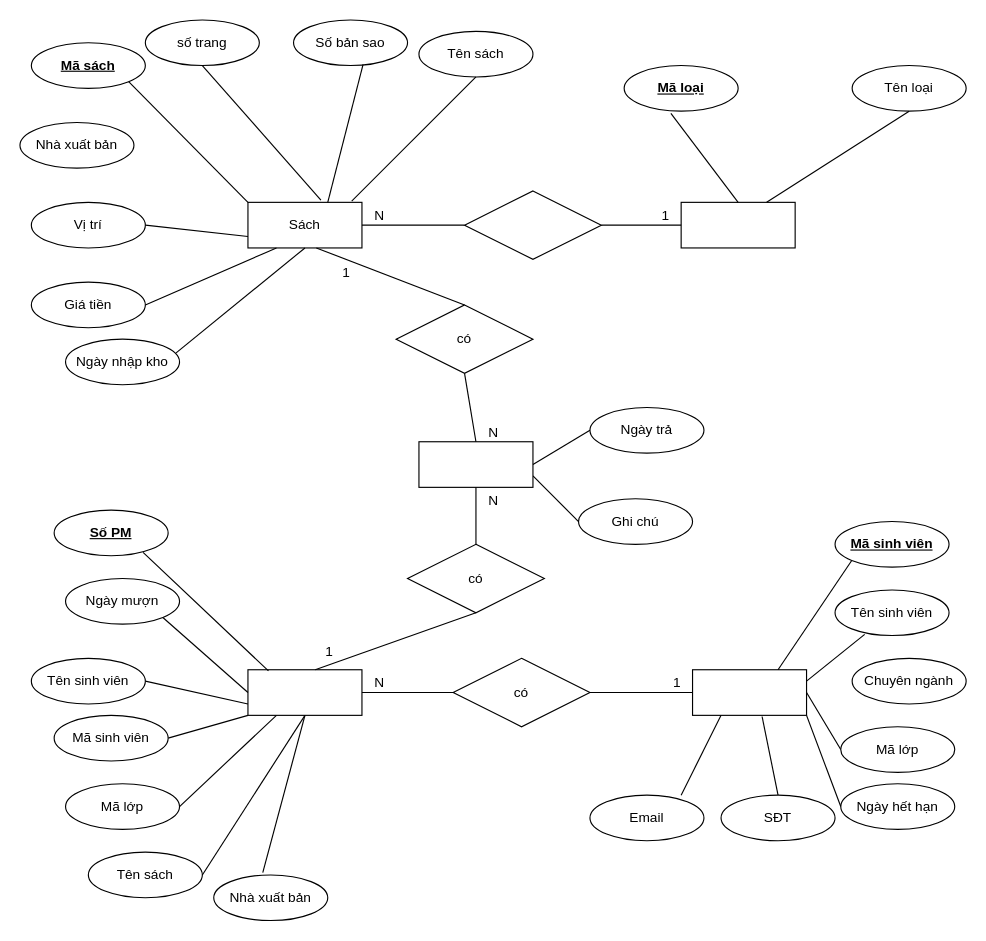
Some shapes in this 986 by 941 pixel diagram are drawn without their labels. The centre of each missing label's shape, as x and y in pixels:
"Chi tiết PM" belongs at (x=475, y=464).
"Loại sách" belongs at (x=737, y=224).
"Phiếu mượn" belongs at (x=304, y=692).
"Sinh viên" belongs at (x=749, y=692).
"Thuộc" belongs at (x=532, y=224).
